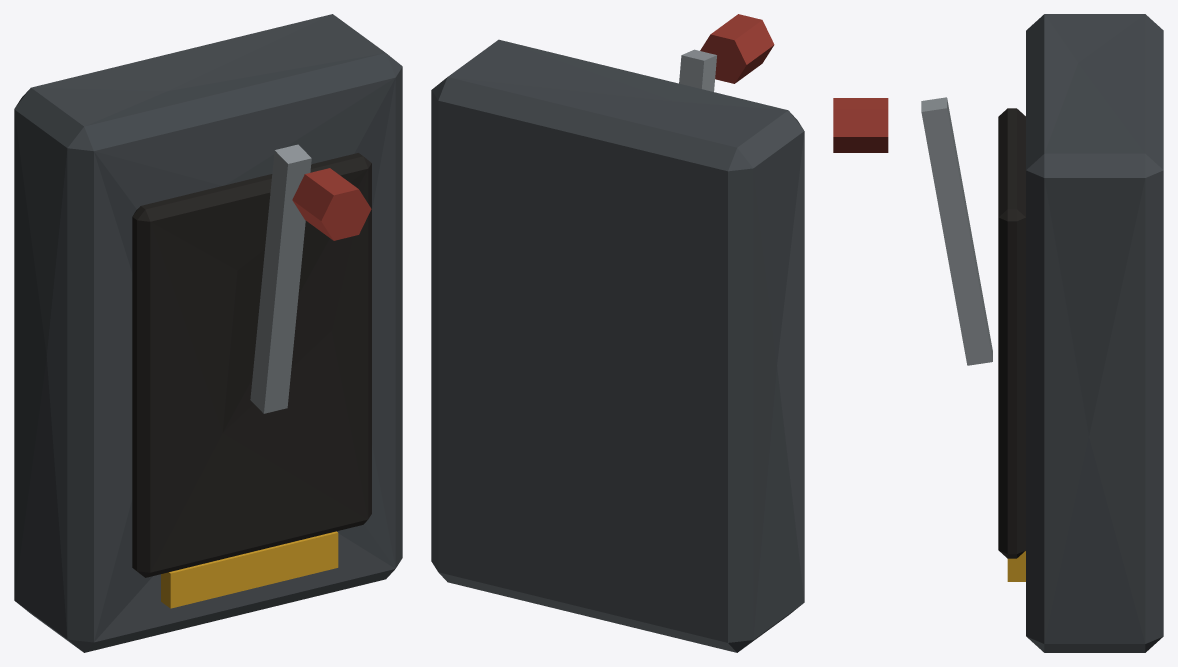
The model's file is light_switch_rychazhnyy_idle.glb.
3 views of the same model, side by side, from view 1: azimuth 30°, elevation 25°; view 2: azimuth 150°, elevation 25°; view 3: azimuth 270°, elevation 25° (orthographic). The views are drawn at different scales.
Parts seen in each view (by area): view 1: light_switch_rychazhnyy_idle; view 2: light_switch_rychazhnyy_idle; view 3: light_switch_rychazhnyy_idle.
Boxes of the visible parts, <box> form: light_switch_rychazhnyy_idle: <box>14,14,402,652</box>; light_switch_rychazhnyy_idle: <box>431,14,804,652</box>; light_switch_rychazhnyy_idle: <box>833,14,1163,652</box>.
Bounding box in the file's own units: 0.08 × 0.12 × 0.072.
Materials: 1 (1 with a texture image).
